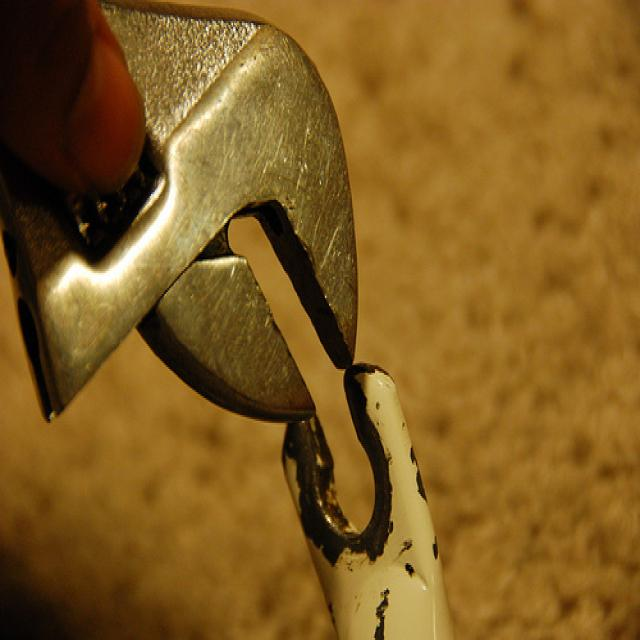wrench: (0, 0, 381, 449)
